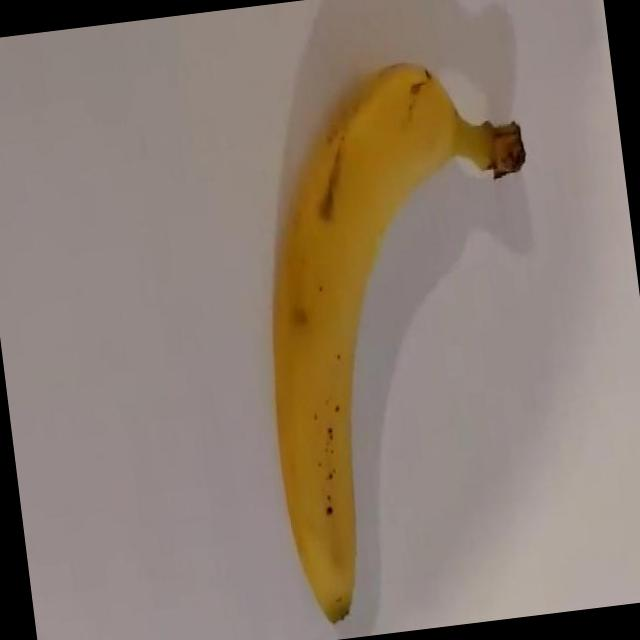Banana: (229, 50, 557, 631)
